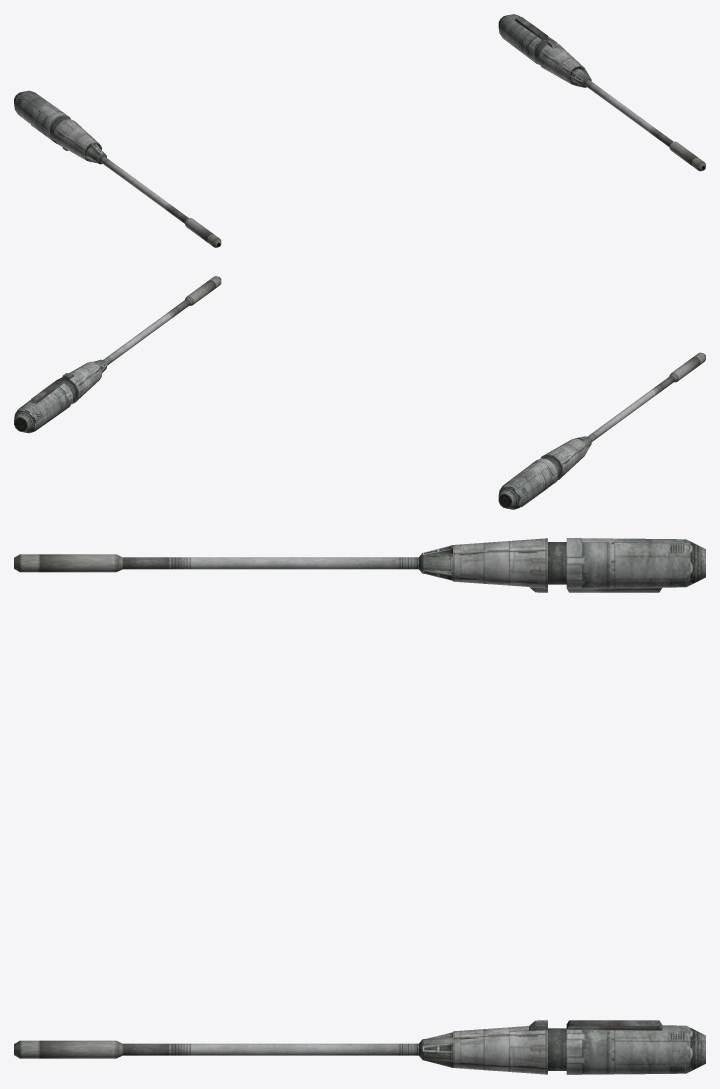
Rendered from xwing_weapon1_pos_s05_l0.fbx.
The picture shows the model from 3 angles, top to bottom: view 1: azimuth 30°, elevation 25°; view 2: azimuth 150°, elevation 25°; view 3: azimuth 270°, elevation 25°; orthographic projection. The views are drawn at different scales.
Parts seen in each view (by area): view 1: mesh_node; view 2: mesh_node; view 3: mesh_node.
Boxes of the visible parts, <box> form: mesh_node: <box>14,14,705,247</box>; mesh_node: <box>14,276,705,509</box>; mesh_node: <box>14,538,705,1074</box>.
Size of the model in its own units: 13.08 by 1.65 by 8.8.
1 material, 1 textured.
